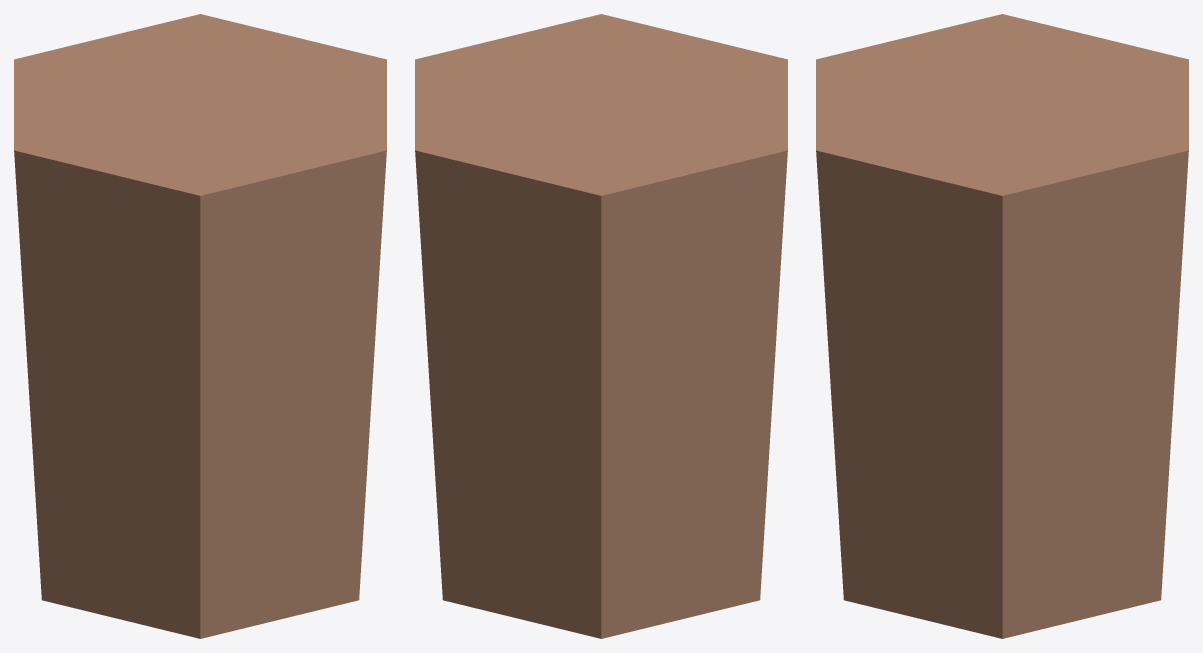
Rendered from pottery_mug_lod2.glb.
The picture shows the model from 3 angles, left to right: view 1: azimuth 30°, elevation 25°; view 2: azimuth 150°, elevation 25°; view 3: azimuth 270°, elevation 25°; orthographic projection.
Parts seen in each view (by area): view 1: pottery_mug; view 2: pottery_mug; view 3: pottery_mug.
Boxes of the visible parts, x1=… form: pottery_mug: x1=14, y1=14, x2=386, y2=638; pottery_mug: x1=415, y1=14, x2=787, y2=638; pottery_mug: x1=816, y1=14, x2=1188, y2=638.
Bounding box in the file's own units: 0.094 × 0.11 × 0.0814.
